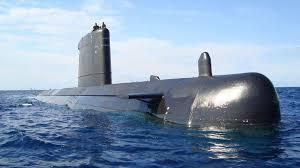Submarine: (12, 7, 300, 157)
